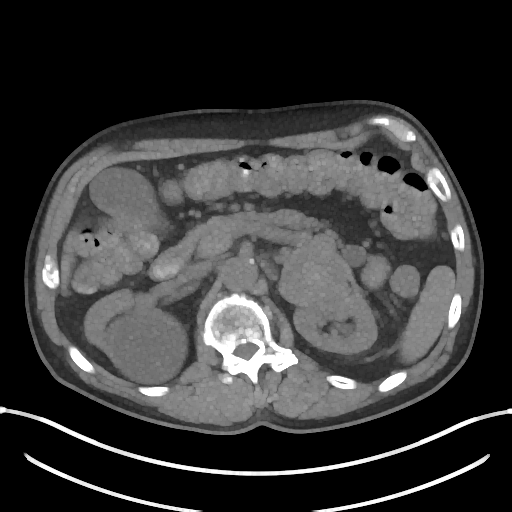Lesion: (105, 309, 191, 389), (277, 242, 356, 309)
